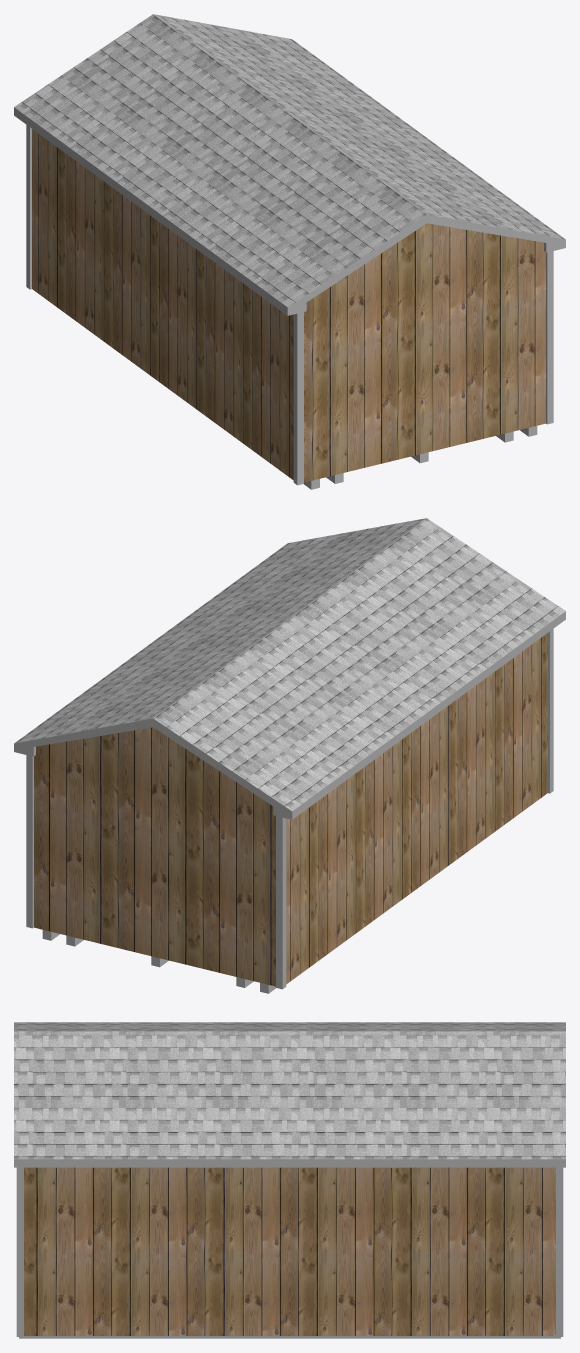
File: A-frame_10x18.obj
3 renders of one model, top to bottom at view 1: azimuth 30°, elevation 25°; view 2: azimuth 150°, elevation 25°; view 3: azimuth 270°, elevation 25°, orthographic.
Parts seen in each view (by area): view 1: Shed, Roof, Sides, Trim, Floor; view 2: Shed, Roof, Sides, Trim, Floor; view 3: Shed, Roof, Sides, Trim, Floor.
Part boxes in pixels (left/top/right/bottom): Shed: left=32, top=129, right=545, bottom=482; Roof: left=14, top=14, right=565, bottom=307; Sides: left=14, top=107, right=565, bottom=315; Trim: left=26, top=125, right=553, bottom=485; Floor: left=304, top=426, right=537, bottom=489; Shed: left=34, top=633, right=547, bottom=986; Roof: left=14, top=518, right=565, bottom=811; Sides: left=14, top=611, right=565, bottom=819; Trim: left=26, top=629, right=553, bottom=989; Floor: left=42, top=930, right=275, bottom=993; Shed: left=24, top=1167, right=555, bottom=1335; Roof: left=14, top=1022, right=565, bottom=1159; Sides: left=14, top=1159, right=565, bottom=1167; Trim: left=16, top=1167, right=563, bottom=1336; Floor: left=19, top=1336, right=560, bottom=1338.
Bounding box in the file's own units: 3.28 × 2.81 × 5.59.
